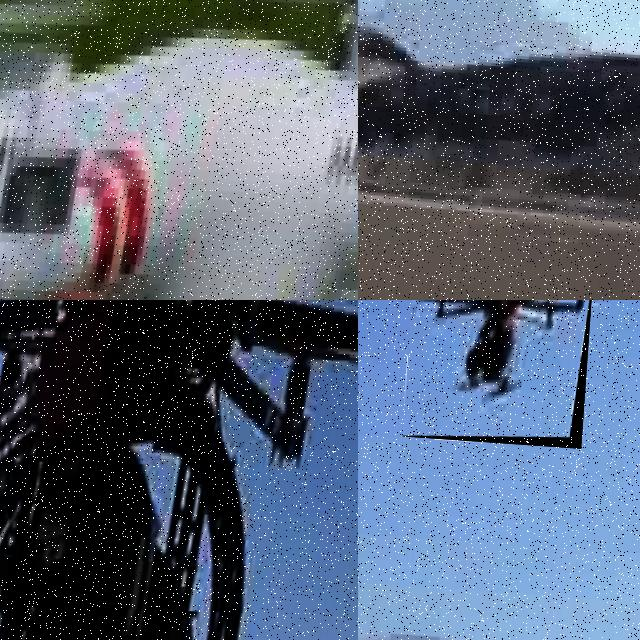0: (0, 300, 358, 640), (402, 300, 592, 448)
drone: (0, 0, 358, 300)
